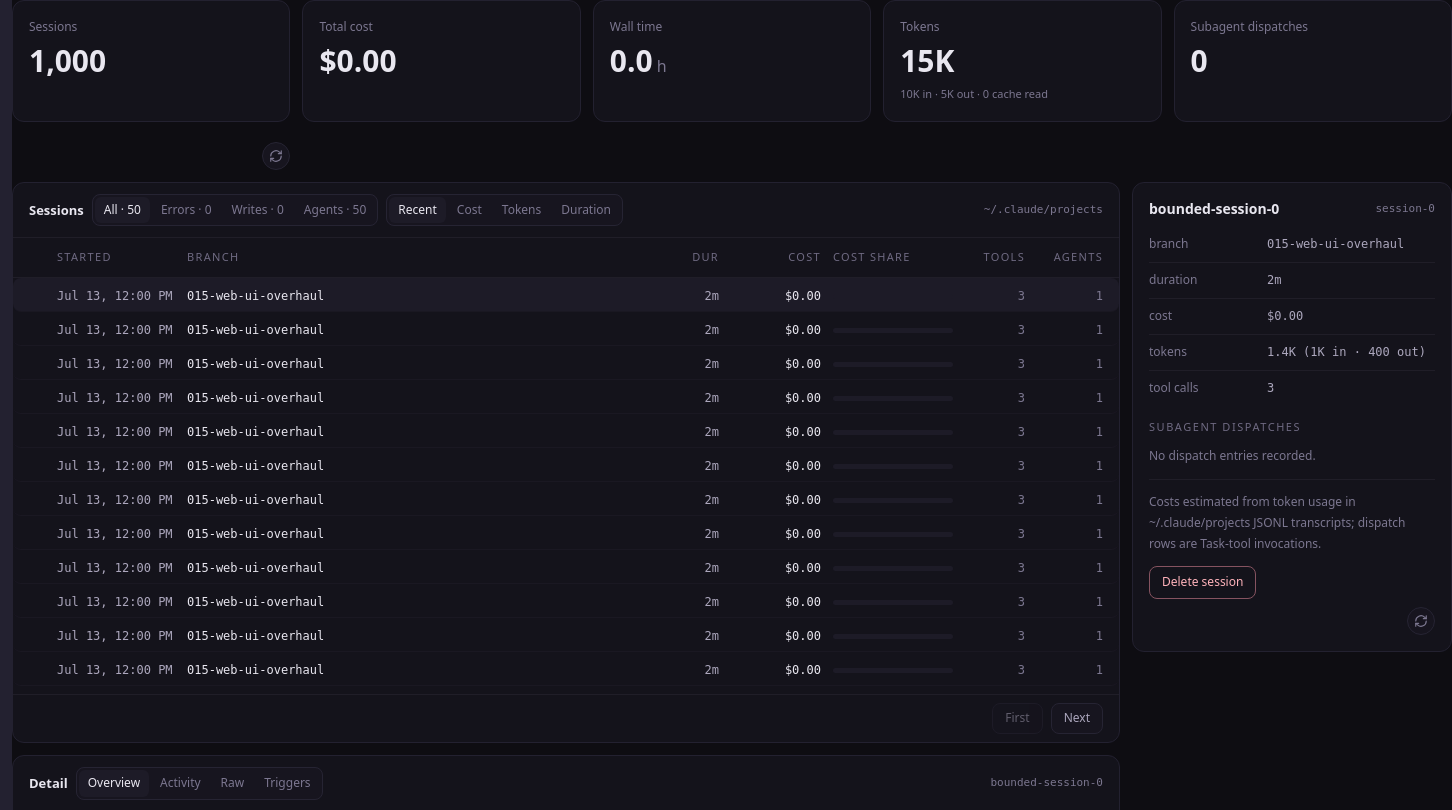
it: SessionsModule › keeps a thousand-session dataset bounded to one server page
expect the 1st button titled "bounded-session-0" is shown: met, box [13, 278, 1119, 312]
Step 1. Click the button "Next" → (1077, 719), box [1051, 703, 1103, 734]
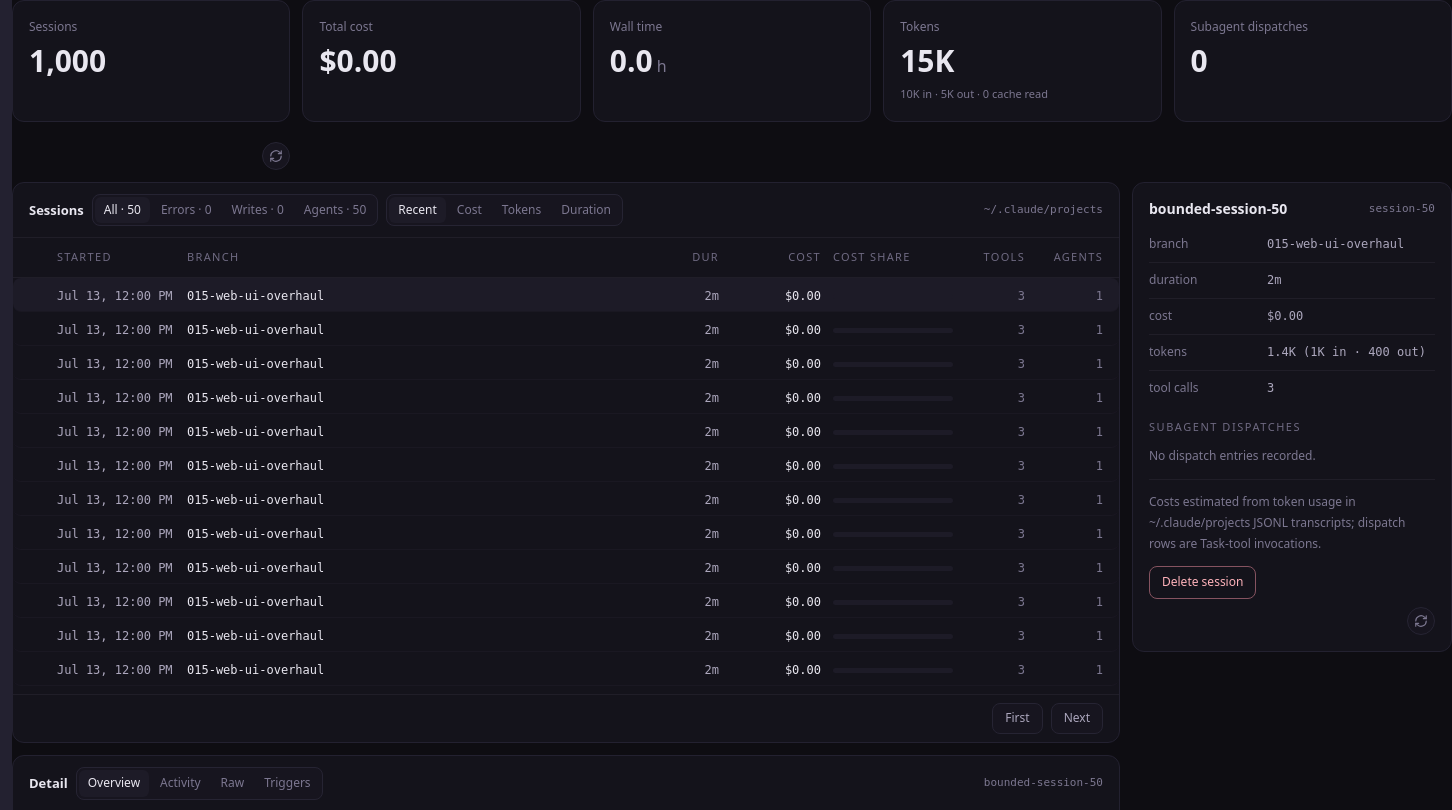
expect the 1st button titled "bounded-session-50" is shown: met, box [13, 278, 1119, 312]
expect the text titled "bounded-session-0" is gone: met
